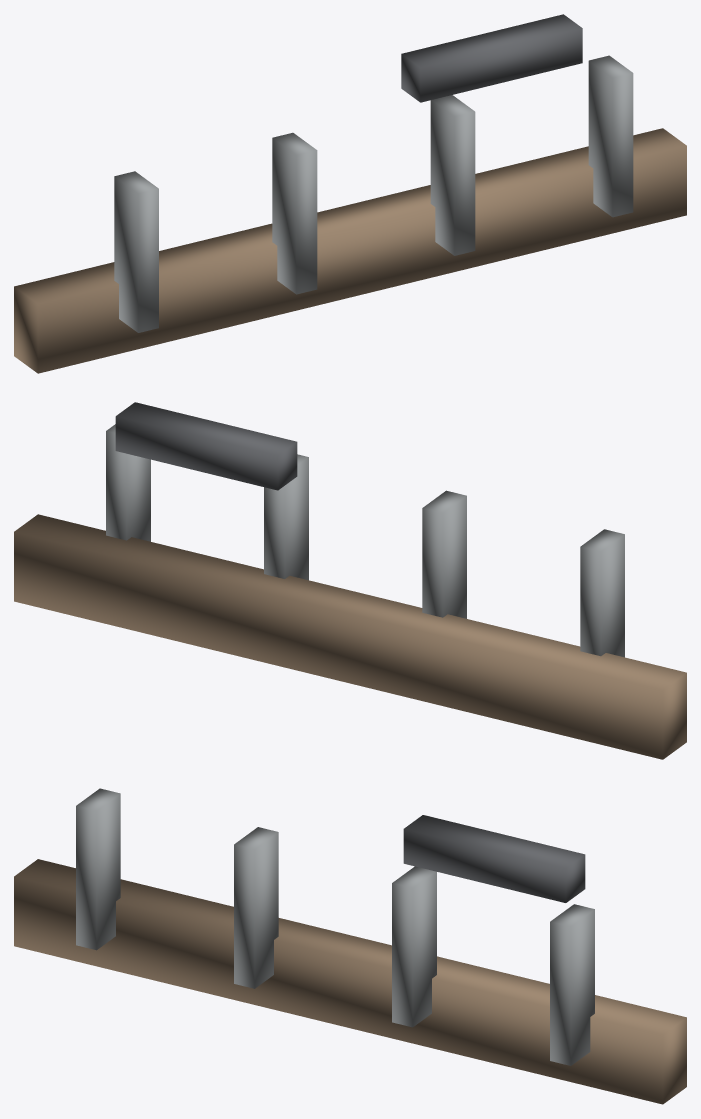
Rendered from door_coat_hook__service.glb.
3 views of the same model, one above another, from view 1: azimuth 30°, elevation 25°; view 2: azimuth 150°, elevation 25°; view 3: azimuth 330°, elevation 25° (orthographic).
Visible parts, largest first — view 1: world; view 2: world; view 3: world.
Boxes of the visible parts, x1,y1,x2,y2 form: world: [14, 14, 686, 373]; world: [14, 402, 686, 759]; world: [14, 788, 686, 1104].
Bounding box in the file's own units: 0.78 × 0.24 × 0.09.
